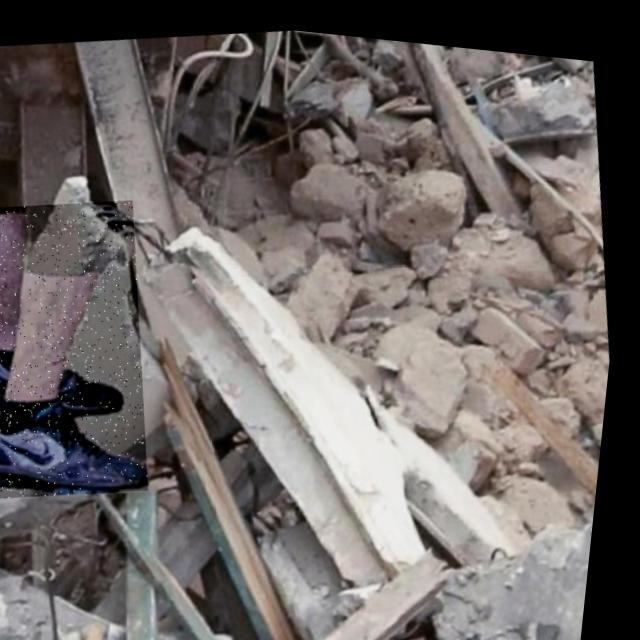Person in Rubble: (0, 184, 182, 513)
